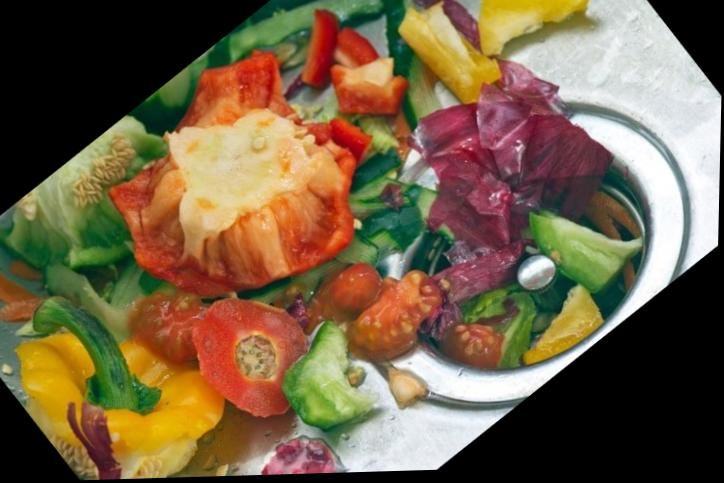organic: (69, 0, 453, 378), (0, 261, 223, 478), (415, 61, 610, 248), (518, 168, 644, 314), (303, 28, 416, 160), (192, 298, 306, 416), (148, 50, 293, 129), (399, 2, 500, 102), (282, 320, 374, 428), (421, 283, 536, 368), (347, 270, 441, 360), (284, 9, 354, 114), (230, 413, 344, 473), (478, 0, 587, 55)
